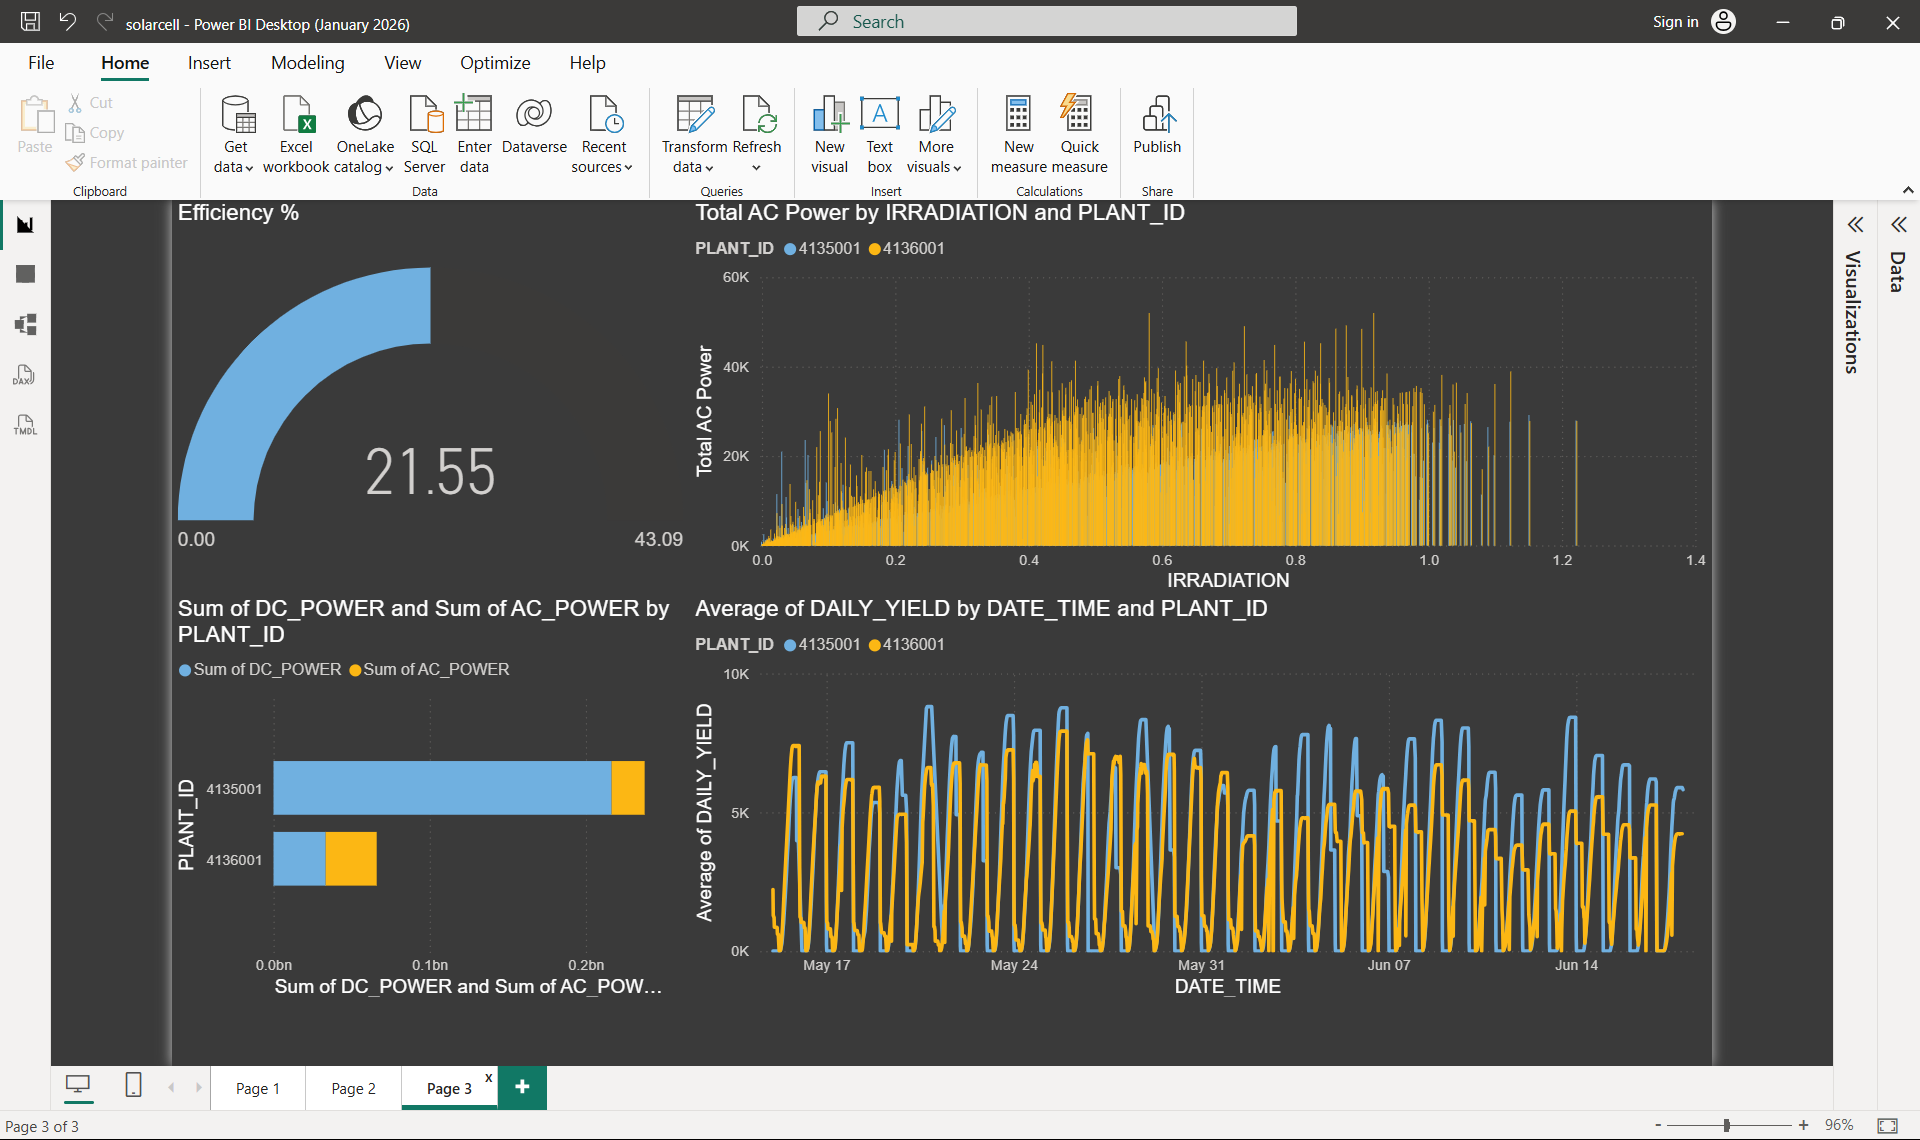

This screenshot's page, from the dashboard's own definition file:
{"tool":"powerbi","page":{"name":"Page 3","canvas":[1280,720],"ordinal":2},"visuals":[{"type":"clusteredColumnChart","fields":{"Category":["Weather_All.IRRADIATION"],"Y":["Generation_All.Total AC Power"],"Series":["Generation_All.PLANT_ID"]},"box":[430.2,0,850.3,329.7],"z":0},{"type":"gauge","fields":{"Y":["Generation_All.Efficiency %"]},"box":[0,0,430.2,329.7],"z":1000},{"type":"barChart","fields":{"Y":["Sum(Generation_All.DC_POWER)","Sum(Generation_All.AC_POWER)"],"Category":["Generation_All.PLANT_ID"]},"box":[0,329.7,430.2,337.6],"z":2000},{"type":"lineChart","fields":{"Category":["Generation_All.DATE_TIME"],"Y":["Avg(Generation_All.DAILY_YIELD)"],"Series":["Generation_All.PLANT_ID"]},"box":[430.2,329.7,850.3,337.6],"z":3000}]}

Visuals, with their boxes on the page's 1280x720 design canvas (x1, y1, x2, y2). These are canvas units, not pixel positions in the 1920x1140 screenshot, which may show the page scaled, cropped or inside an application window:
clusteredColumnChart - Weather_All.IRRADIATION x Generation_All.Total AC Power: bbox=(430, 0, 1280, 330)
gauge - Generation_All.Efficiency %: bbox=(0, 0, 430, 330)
barChart - Sum(Generation_All.DC_POWER) x Sum(Generation_All.AC_POWER): bbox=(0, 330, 430, 667)
lineChart - Generation_All.DATE_TIME x Avg(Generation_All.DAILY_YIELD): bbox=(430, 330, 1280, 667)
